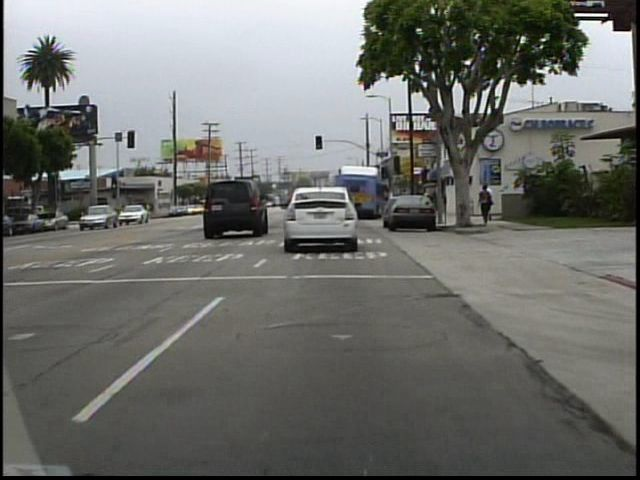person: (475, 182, 493, 226), (483, 182, 495, 223)
